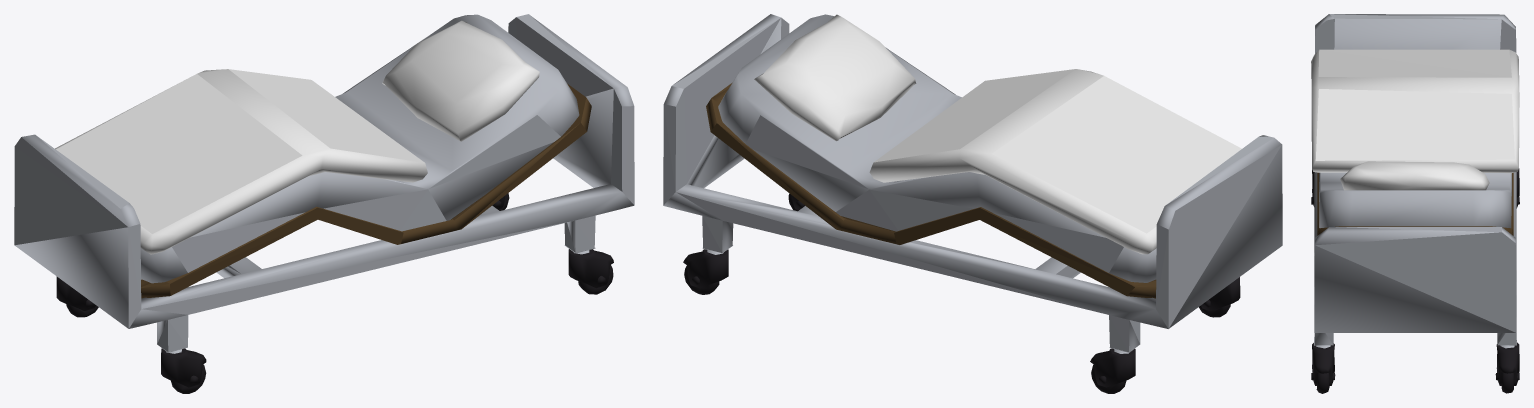
The model's file is hospital_bed.dae.
3 renders of one model, left to right at view 1: azimuth 30°, elevation 25°; view 2: azimuth 150°, elevation 25°; view 3: azimuth 270°, elevation 25°, orthographic. The views are drawn at different scales.
Visible parts, largest first — view 1: 19853_Hospital_Bed_v1, 19853_Hospital_Bed_v1.001; view 2: 19853_Hospital_Bed_v1, 19853_Hospital_Bed_v1.001; view 3: 19853_Hospital_Bed_v1, 19853_Hospital_Bed_v1.001.
Boxes of the visible parts, left/top/right/bottom form: 19853_Hospital_Bed_v1: left=14, top=14, right=634, bottom=352; 19853_Hospital_Bed_v1.001: left=56, top=193, right=613, bottom=393; 19853_Hospital_Bed_v1: left=663, top=14, right=1282, bottom=352; 19853_Hospital_Bed_v1.001: left=683, top=193, right=1240, bottom=393; 19853_Hospital_Bed_v1: left=1311, top=14, right=1519, bottom=345; 19853_Hospital_Bed_v1.001: left=1311, top=168, right=1519, bottom=393.
Bounding box in the file's own units: 2.1 × 0.8467 × 0.9096.
